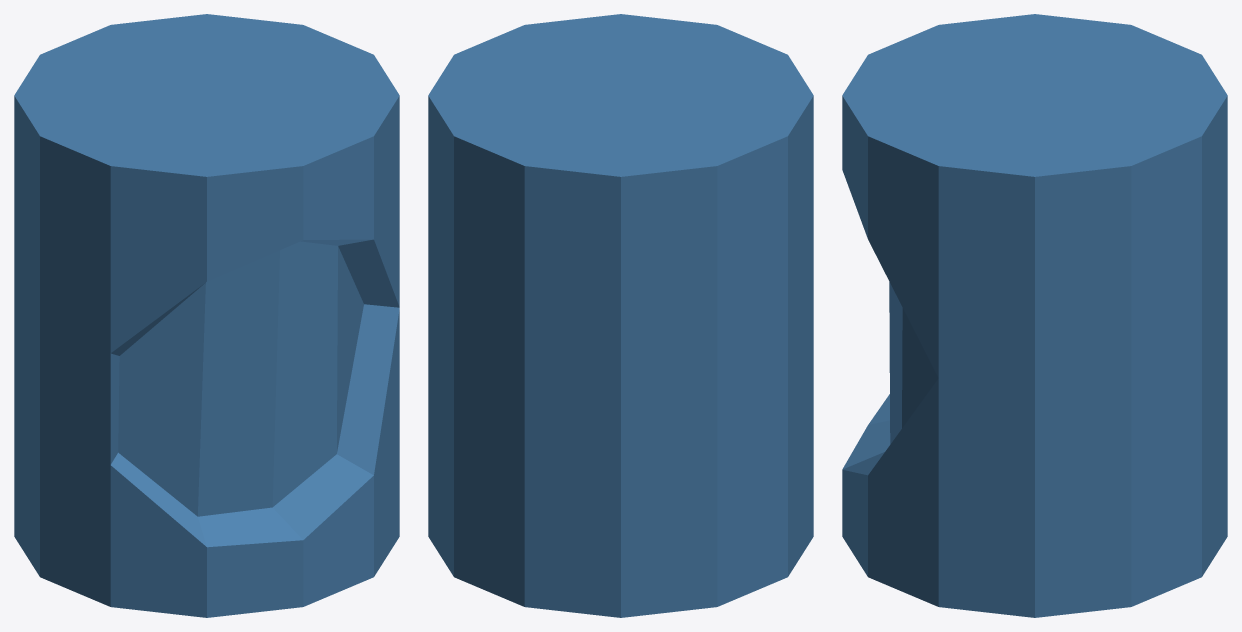
The model's file is O_enviroment_MetalPipe_Hole1.fbx.
The picture shows the model from 3 angles, left to right: view 1: azimuth 30°, elevation 25°; view 2: azimuth 150°, elevation 25°; view 3: azimuth 270°, elevation 25°; orthographic projection.
Visible parts, largest first — view 1: pCylinder7; view 2: pCylinder7; view 3: pCylinder7.
Boxes of the visible parts, x1,y1,x2,y2 form: pCylinder7: (14,14,399,617); pCylinder7: (428,14,813,617); pCylinder7: (842,14,1227,617).
Bounding box in the file's own units: 1.17 × 1.48 × 1.17.
